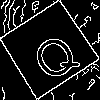Q: (24, 24, 83, 86)
